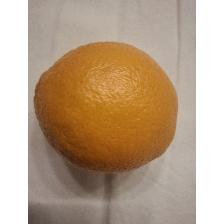Mandarine: (32, 38, 182, 176)
